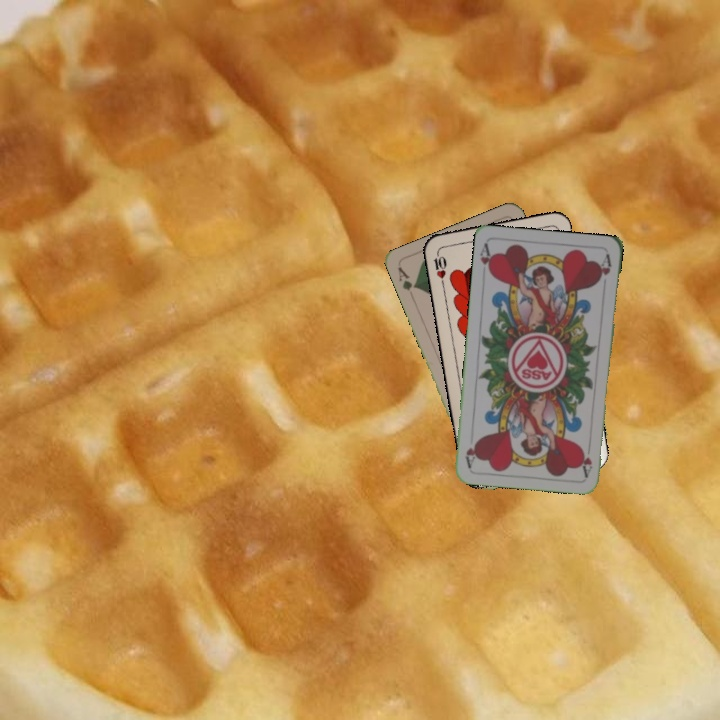GA: (394, 263, 419, 293)
H10: (429, 247, 449, 287)
HA: (476, 240, 496, 279), (579, 438, 595, 479)
